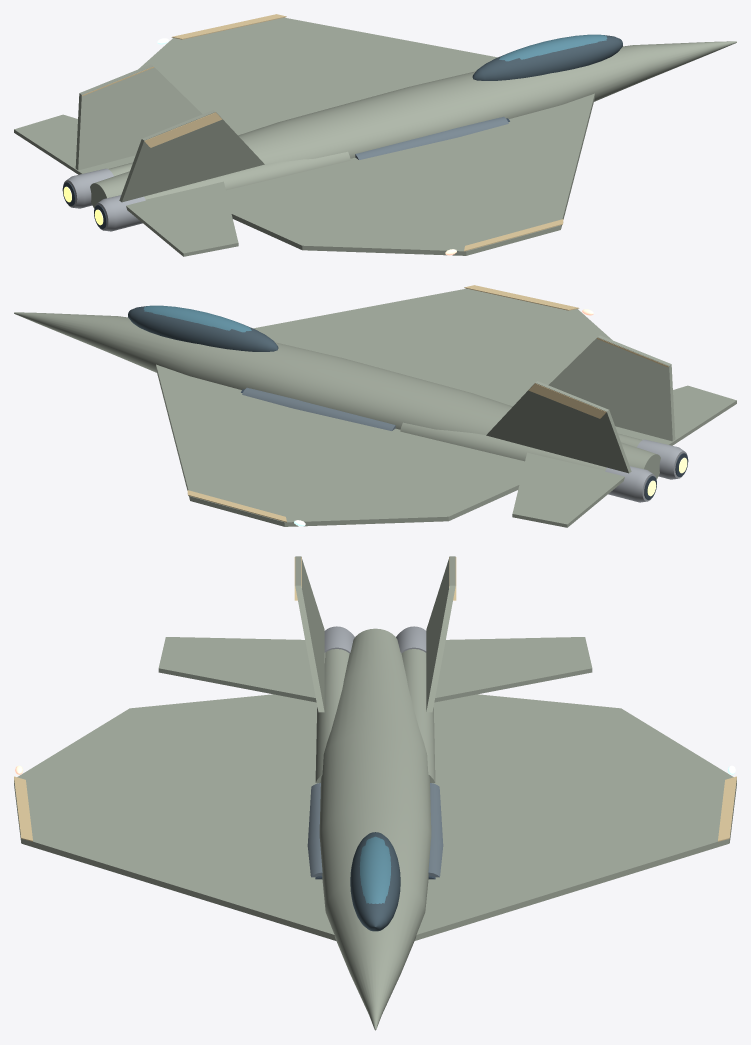
File: JetManta.glb
3 views of the same model, one above another, from view 1: azimuth 30°, elevation 25°; view 2: azimuth 150°, elevation 25°; view 3: azimuth 270°, elevation 25° (orthographic). The views are drawn at different scales.
Parts seen in each view (by area): view 1: JetManta; view 2: JetManta; view 3: JetManta.
Part boxes in pixels (x1,y1,x2,y2): JetManta: (14,14,736,256); JetManta: (14,285,736,527); JetManta: (14,556,736,1030).
Bounding box in the file's own units: 18.07 × 3.07 × 14.
